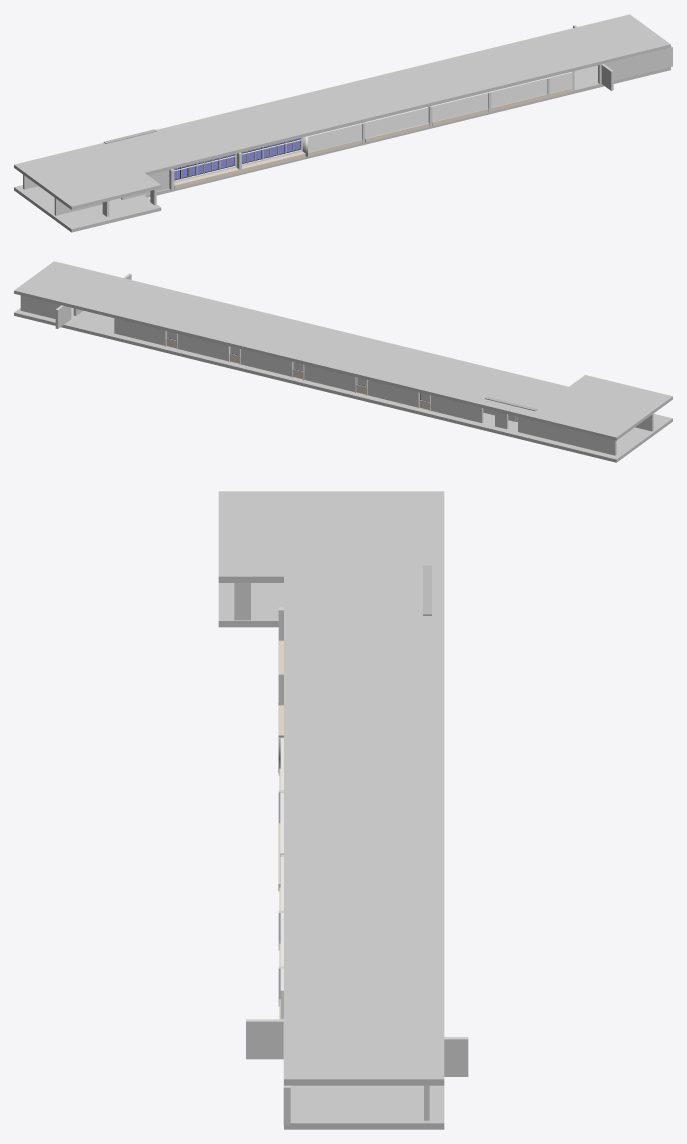
The model's file is B-TRAKTLOL.fbx.
3 renders of one model, top to bottom at view 1: azimuth 30°, elevation 25°; view 2: azimuth 150°, elevation 25°; view 3: azimuth 270°, elevation 25°, orthographic. The views are drawn at different scales.
Parts seen in each view (by area): view 1: Cube.009, Cube.011, Window.010, Cube.081, Window.011, CTRL_Hole.001, CTRL_Hole.003, CTRL_Hole, CTRL_Hole.004, CTRL_Hole.002, Cube.071; view 2: Cube.009, Cube.011, Cube.005, Cube.006, Cube.004, Cube.001, Cube, Cube.002, Cube.003, Cube.070, Cube.080; view 3: Cube.009, Cube.011, Cube.082, Cube.079.
Part boxes in pixels (left/top/right/bottom): Cube.009: left=14, top=14, right=670, bottom=209; Cube.011: left=14, top=65, right=670, bottom=232; Window.010: left=173, top=153, right=239, bottom=189; Cube.081: left=598, top=46, right=672, bottom=84; Window.011: left=241, top=137, right=305, bottom=172; CTRL_Hole.001: left=364, top=107, right=428, bottom=138; CTRL_Hole.003: left=432, top=92, right=488, bottom=122; CTRL_Hole: left=490, top=78, right=546, bottom=107; CTRL_Hole.004: left=307, top=123, right=361, bottom=152; CTRL_Hole.002: left=549, top=72, right=572, bottom=93; Cube.071: left=121, top=170, right=169, bottom=199; Cube.009: left=14, top=261, right=672, bottom=440; Cube.011: left=14, top=307, right=672, bottom=462; Cube.005: left=431, top=395, right=483, bottom=422; Cube.006: left=564, top=428, right=616, bottom=455; Cube.004: left=367, top=380, right=418, bottom=407; Cube.001: left=177, top=334, right=228, bottom=360; Cube: left=114, top=318, right=164, bottom=345; Cube.002: left=241, top=349, right=291, bottom=376; Cube.003: left=304, top=364, right=354, bottom=391; Cube.070: left=518, top=416, right=568, bottom=444; Cube.080: left=20, top=295, right=60, bottom=318; Cube.009: left=218, top=491, right=444, bottom=1085; Cube.011: left=218, top=583, right=444, bottom=1129; Cube.082: left=246, top=1019, right=283, bottom=1059; Cube.079: left=444, top=1037, right=468, bottom=1076.
Size of the model in its own units: 100 by 6.91 by 17.92.
